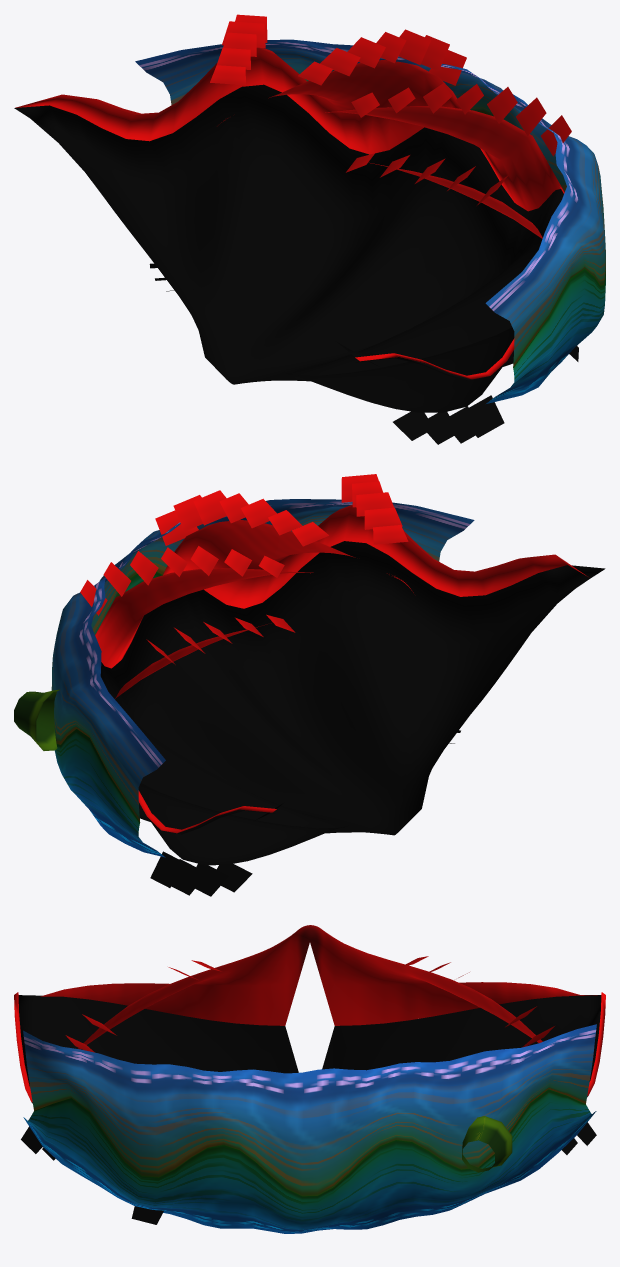
Rendered from maxima_clam.glb.
3 renders of one model, top to bottom at view 1: azimuth 30°, elevation 25°; view 2: azimuth 150°, elevation 25°; view 3: azimuth 270°, elevation 25°, orthographic. The views are drawn at different scales.
Parts seen in each view (by area): view 1: Shell, Mantle; view 2: Shell, Mantle; view 3: Mantle, Shell.
Part boxes in pixels (x1,y1,x2,y2): Shell: (14, 14, 578, 444); Mantle: (135, 39, 605, 403); Shell: (80, 474, 605, 896); Mantle: (14, 499, 474, 857); Mantle: (23, 1024, 596, 1233); Shell: (14, 925, 605, 1224).
Bounding box in the file's own units: 0.6202 × 0.459 × 1.
Materials: 2 (2 with a texture image).
